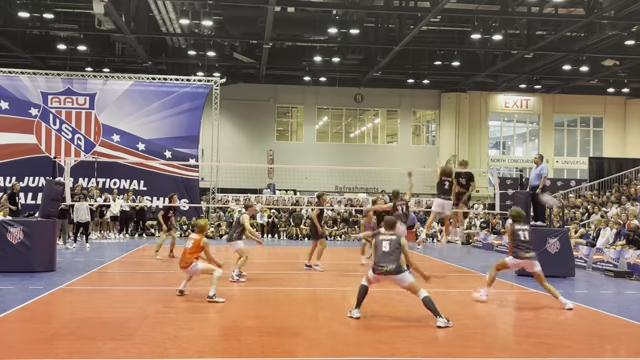Attack: (451, 154, 477, 243)
Block: (421, 151, 455, 244)
Player: (348, 216, 452, 327), (473, 207, 573, 309), (176, 219, 224, 302), (226, 203, 262, 281), (374, 172, 412, 236), (304, 192, 325, 271), (154, 193, 178, 259), (374, 197, 390, 227), (361, 209, 378, 232)
